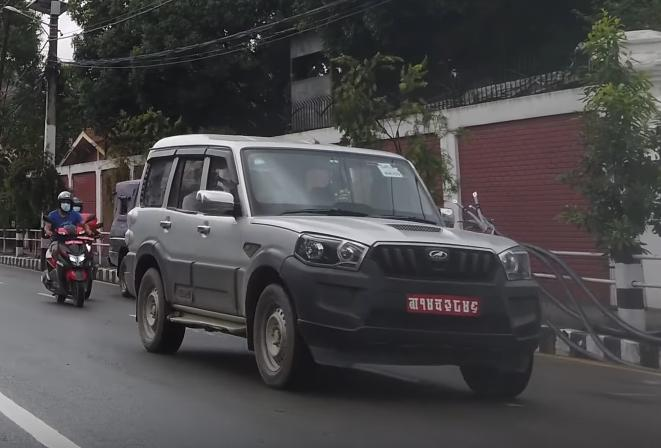SUV: (124, 131, 545, 405)
scooter: (39, 212, 93, 309)
